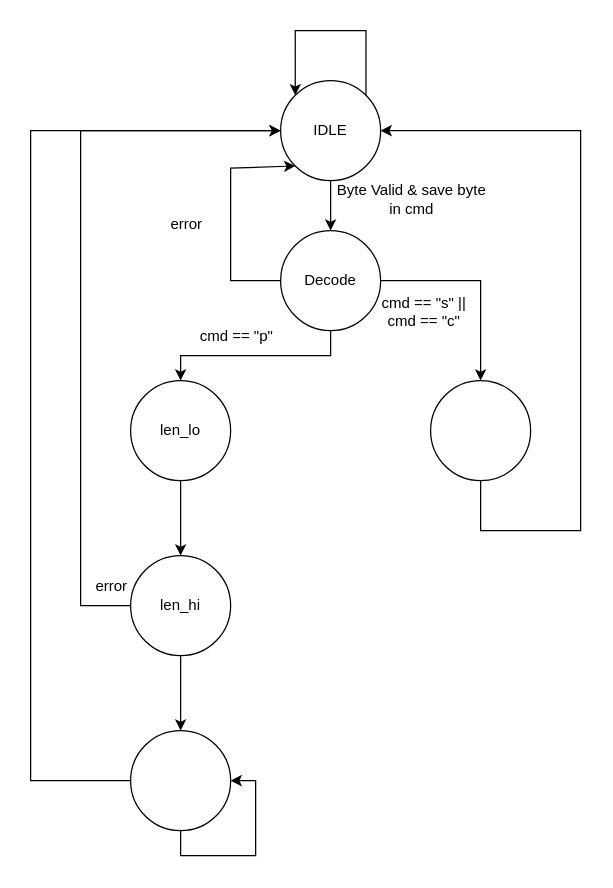
Some shapes in this 613 by 888 pixel diagram are drawn without their labels. Each missing label, with the box of its shape:
DATA: (129, 729, 231, 831)
Exec: (429, 379, 531, 481)
